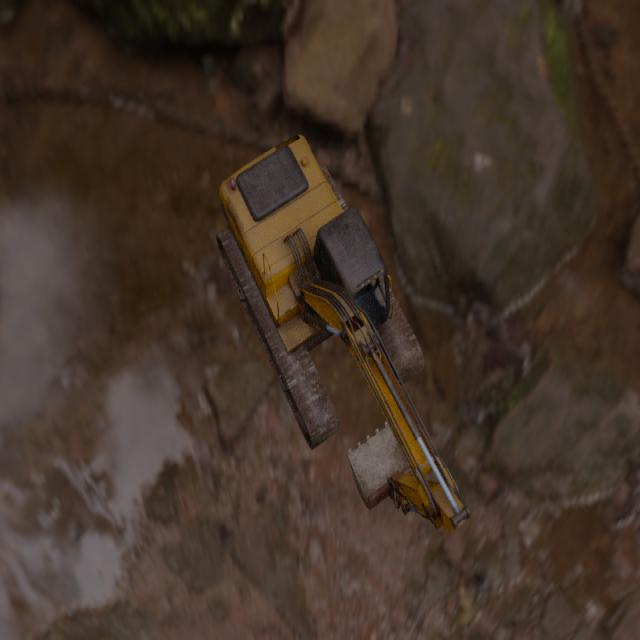excavator: (215, 133, 471, 531)
